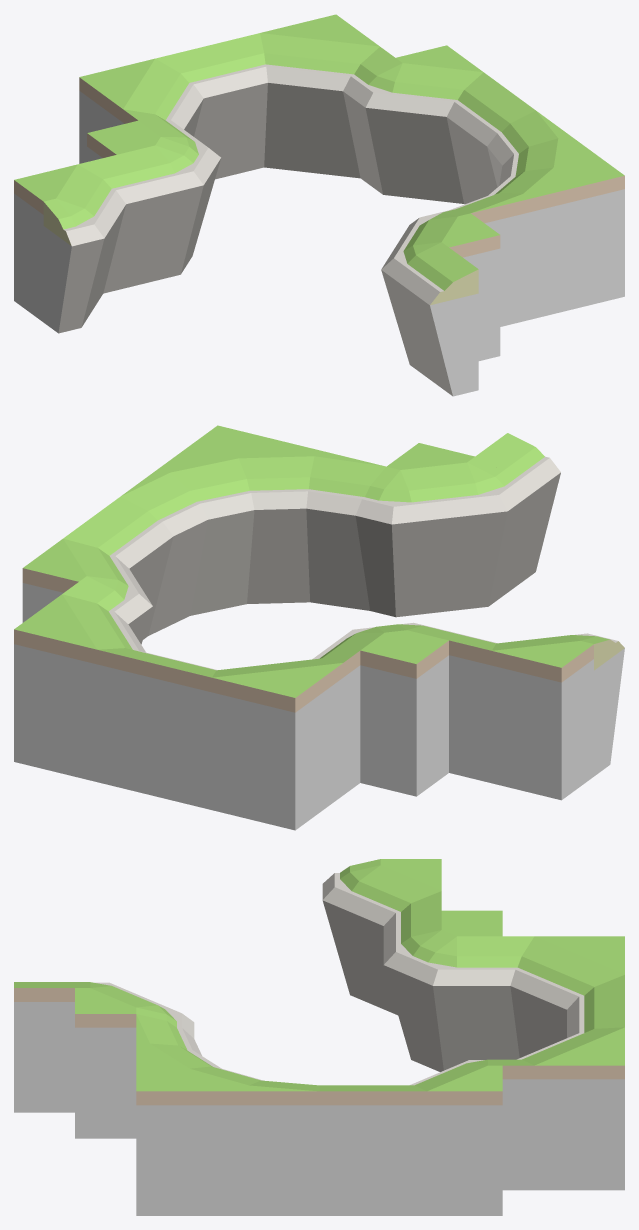
Rendered from Cliff_Assembly_Curve_Inner_2_Top.glb.
The picture shows the model from 3 angles, top to bottom: view 1: azimuth 30°, elevation 25°; view 2: azimuth 150°, elevation 25°; view 3: azimuth 270°, elevation 25°; orthographic projection. The views are drawn at different scales.
Parts seen in each view (by area): view 1: Basic_Esse_Top_2x2 (×2), Basic_Curve_Inner_2x2_Wide_Top (×2), Basic_Curve_Inner_3x3_Top, Basic_Straight_Top_1x1 (×3), Basic_Curve_Outer_2x2_Narrow_Top, Basic_Curve_Outer_2x2_Wide_Top; view 2: Basic_Curve_Inner_2x2_Wide_Top (×2), Basic_Curve_Inner_3x3_Top, Basic_Esse_Top_2x2 (×2), Basic_Curve_Outer_2x2_Wide_Top, Basic_Straight_Top_1x1 (×3), Basic_Curve_Outer_2x2_Narrow_Top; view 3: Basic_Curve_Inner_2x2_Wide_Top (×2), Basic_Curve_Inner_3x3_Top, Basic_Esse_Top_2x2 (×2), Basic_Straight_Top_1x1 (×3), Basic_Curve_Outer_2x2_Narrow_Top, Basic_Curve_Outer_2x2_Wide_Top.
Part boxes in pixels (x1,y1,x2,y2): Basic_Esse_Top_2x2 (×2): (14,45,505,333); Basic_Curve_Inner_2x2_Wide_Top (×2): (79,14,394,184); Basic_Curve_Inner_3x3_Top: (449,110,624,326); Basic_Straight_Top_1x1 (×3): (182,39,535,396); Basic_Curve_Outer_2x2_Narrow_Top: (87,120,220,286); Basic_Curve_Outer_2x2_Wide_Top: (381,209,500,374); Basic_Curve_Inner_2x2_Wide_Top (×2): (14,582,360,830); Basic_Curve_Inner_3x3_Top: (120,425,385,635); Basic_Esse_Top_2x2 (×2): (22,520,624,800); Basic_Curve_Outer_2x2_Wide_Top: (355,443,528,617); Basic_Straight_Top_1x1 (×3): (88,433,560,802); Basic_Curve_Outer_2x2_Narrow_Top: (318,622,472,796); Basic_Curve_Inner_2x2_Wide_Top (×2): (502,936,624,1190); Basic_Curve_Inner_3x3_Top: (136,1014,319,1215); Basic_Esse_Top_2x2 (×2): (322,859,502,1215); Basic_Straight_Top_1x1 (×3): (14,982,624,1215); Basic_Curve_Outer_2x2_Narrow_Top: (383,910,502,1071); Basic_Curve_Outer_2x2_Wide_Top: (75,982,194,1138).
Bounding box in the file's own units: 900 × 225 × 1000.
